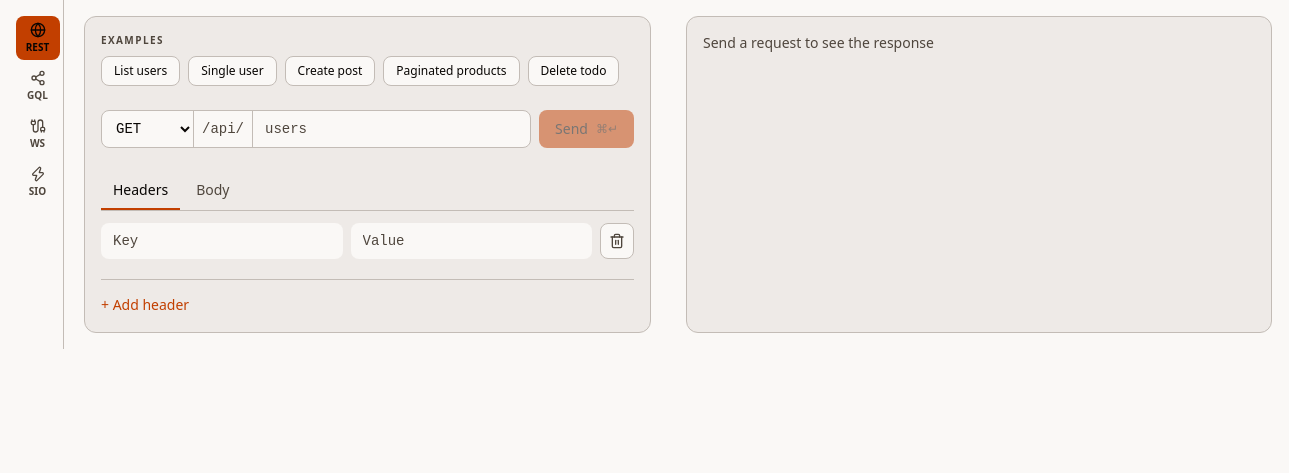
Playground layout — Playground shell › switches panel when a protocol is clicked
The width and height of the screenshot is (1289, 473).
Check: the button "Send ⌘↵" is shown, box [539,110,634,148]
Click the button with aria-label "GraphQL": x=38, y=86 [16,64,60,108]
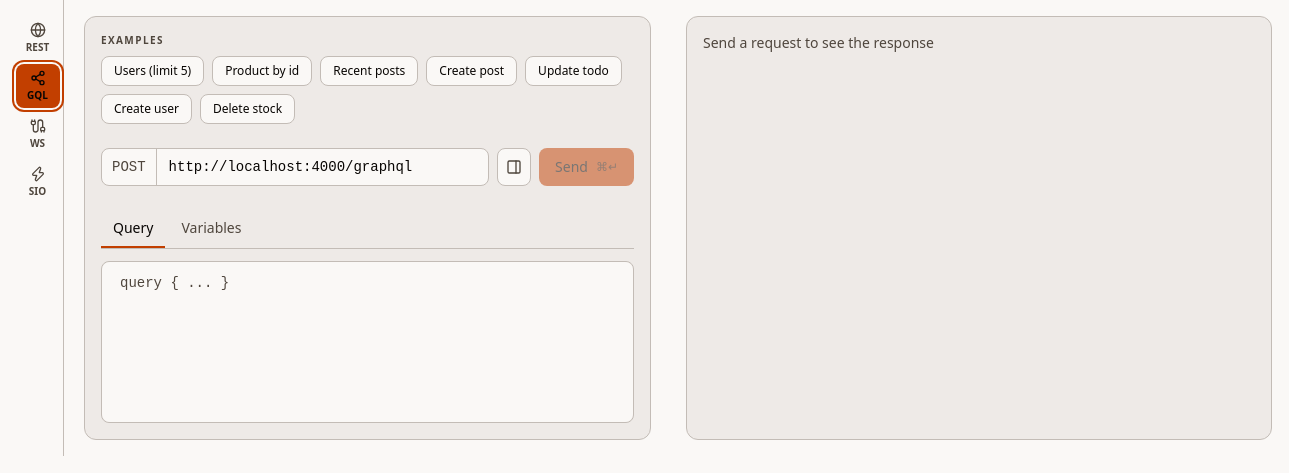
Check: the button "Send ⌘↵" is shown, box [539,148,634,186]
Check: the field named "GraphQL endpoint URL" is shown, box [157,149,488,185]
